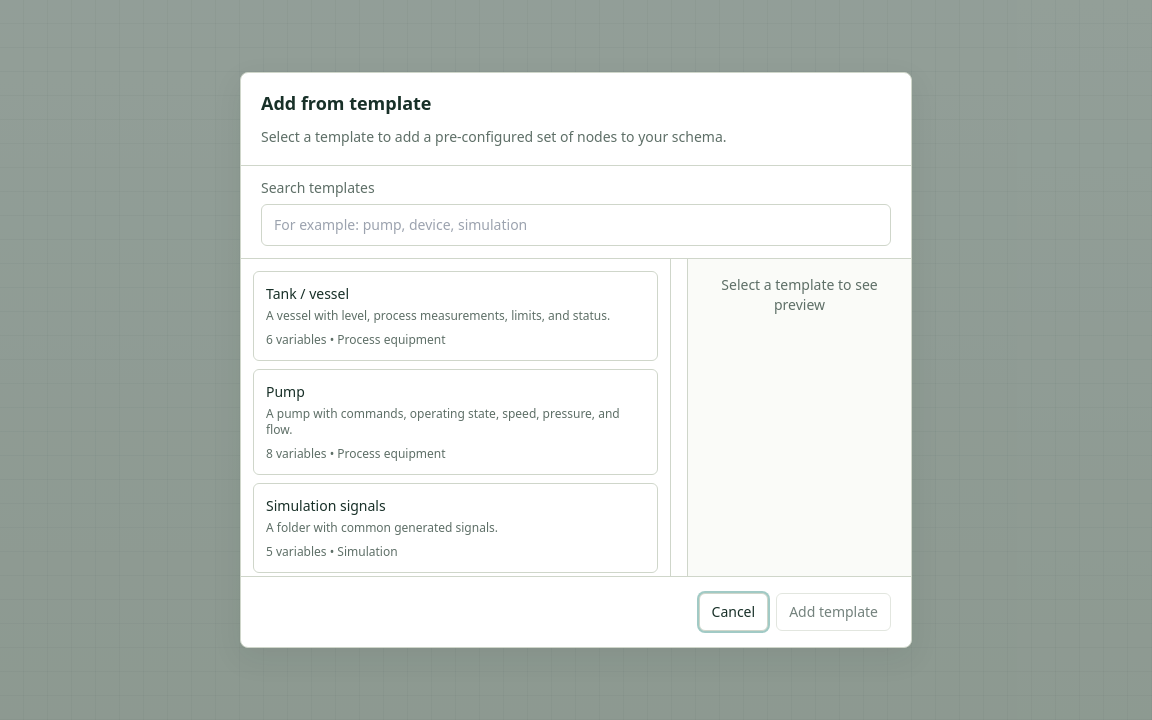
Test case: TemplatePickerModal › clears selection when search query changes
Note: Select a template
Click the button "Pump" at [456, 422], box [253,369,658,475]
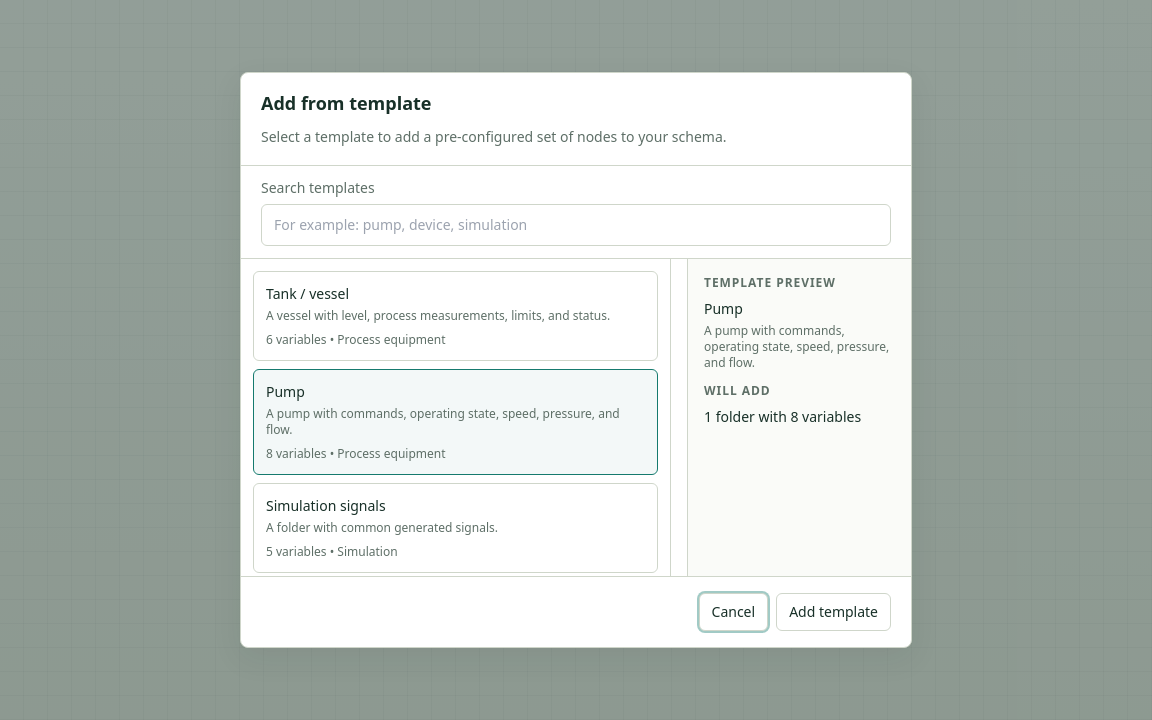
expect the text "Template preview" is shown: met, box [704,274,836,291]
Note: Change search query
Type "tank" into the field with placeholder "For example: pump, device, simulation" at [576, 225], box [261,204,891,246]
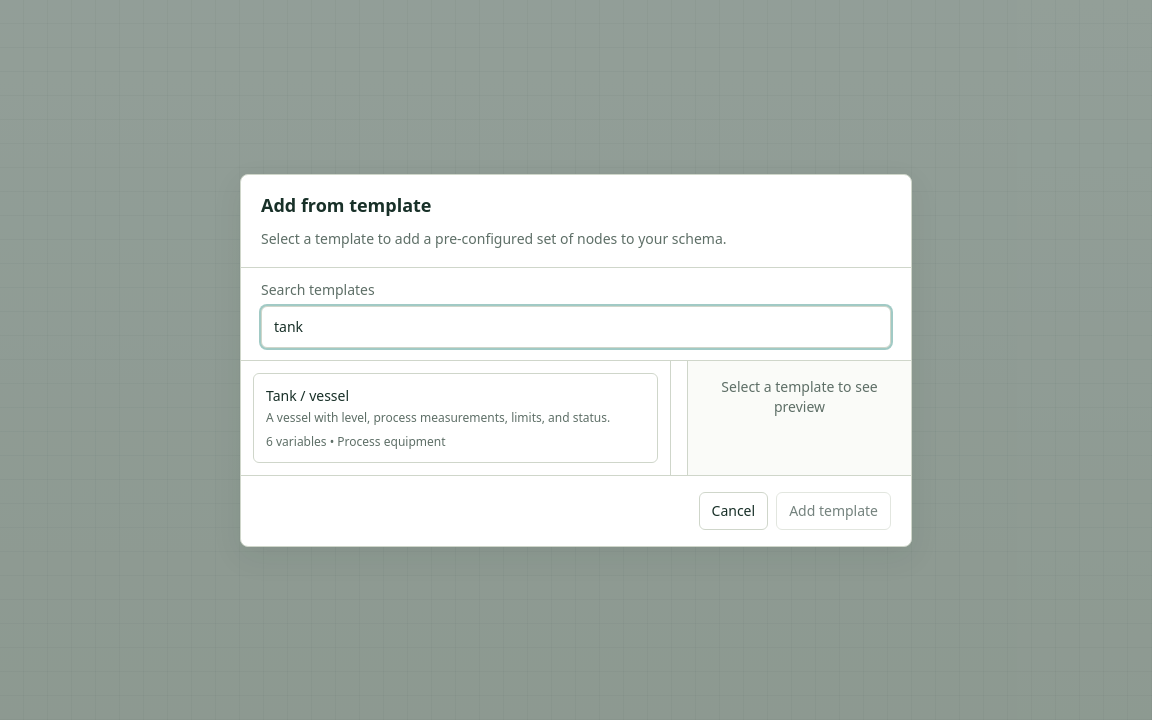
expect the text "Template preview" is gone: met
expect the text "Select a template to see preview" is shown: met, box [721,376,878,416]
